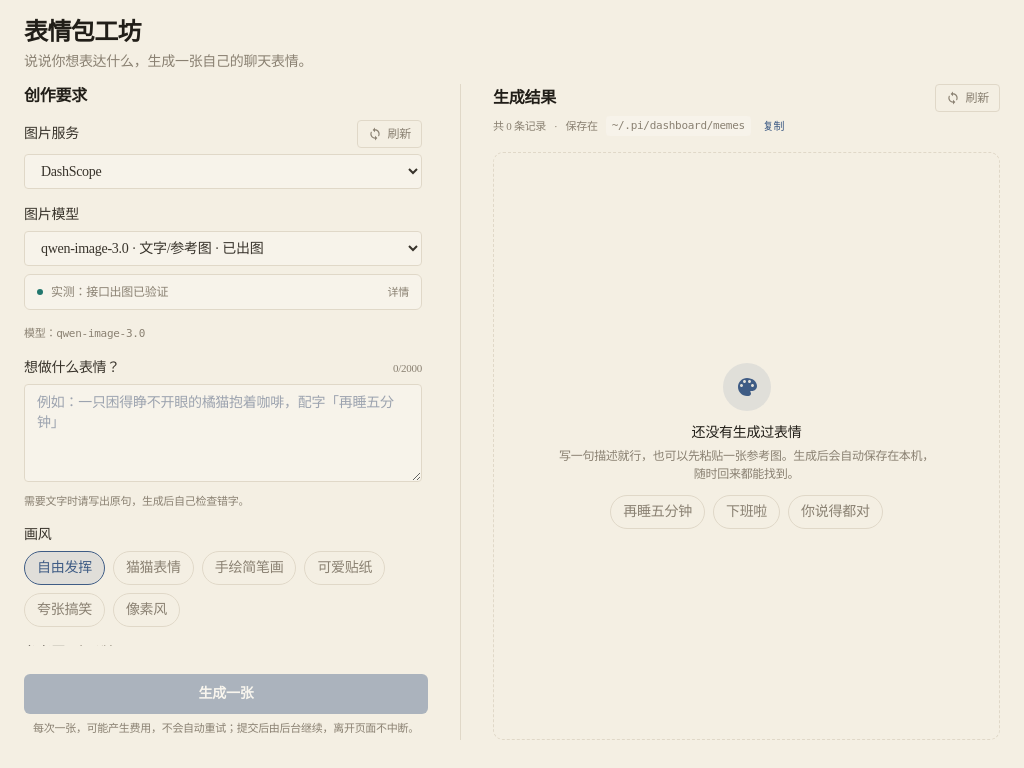
Test: MemeStudioPage › switches provider without submitting a model from the old provider
This screenshot has width=1024, height=768.
Expected: the dropdown labelled "图片服务" shows "DashScope", top-left (24, 154), bottom-right (422, 189)
Select "qwen-image-3.0-pro · 文字/参考图 · 已出图" in the dropdown labelled "图片模型" at (223, 248), box top-left (24, 231), bottom-right (422, 266)
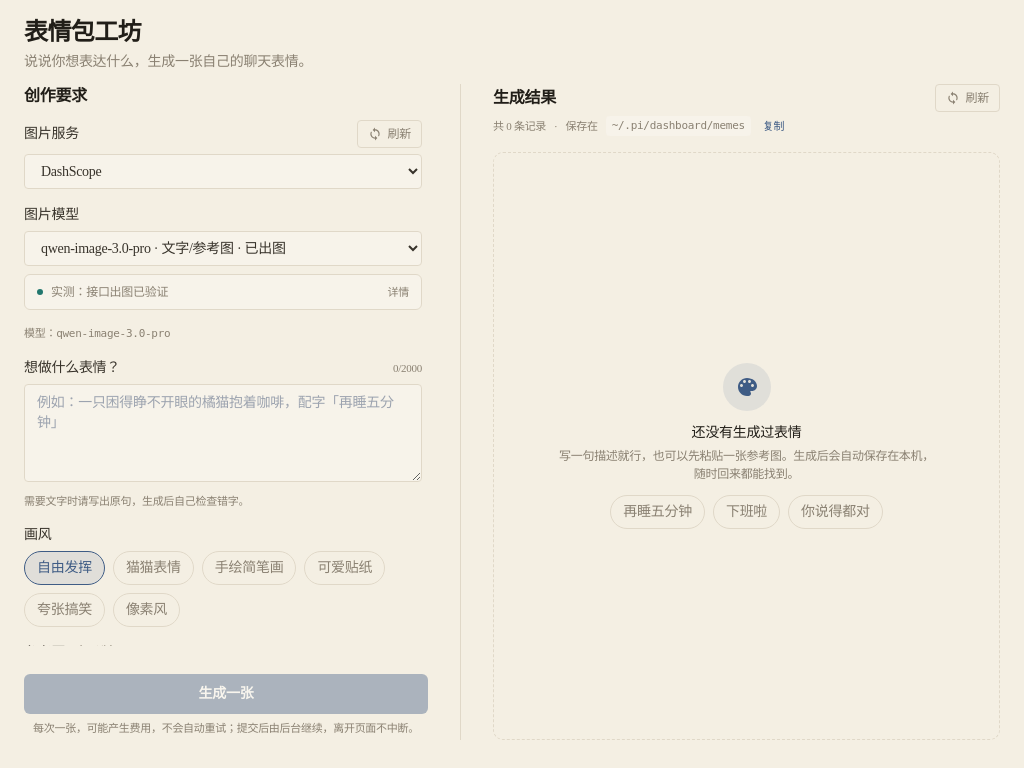
Select "Azure" in the dropdown labelled "图片服务" at (223, 172), box top-left (24, 154), bottom-right (422, 189)
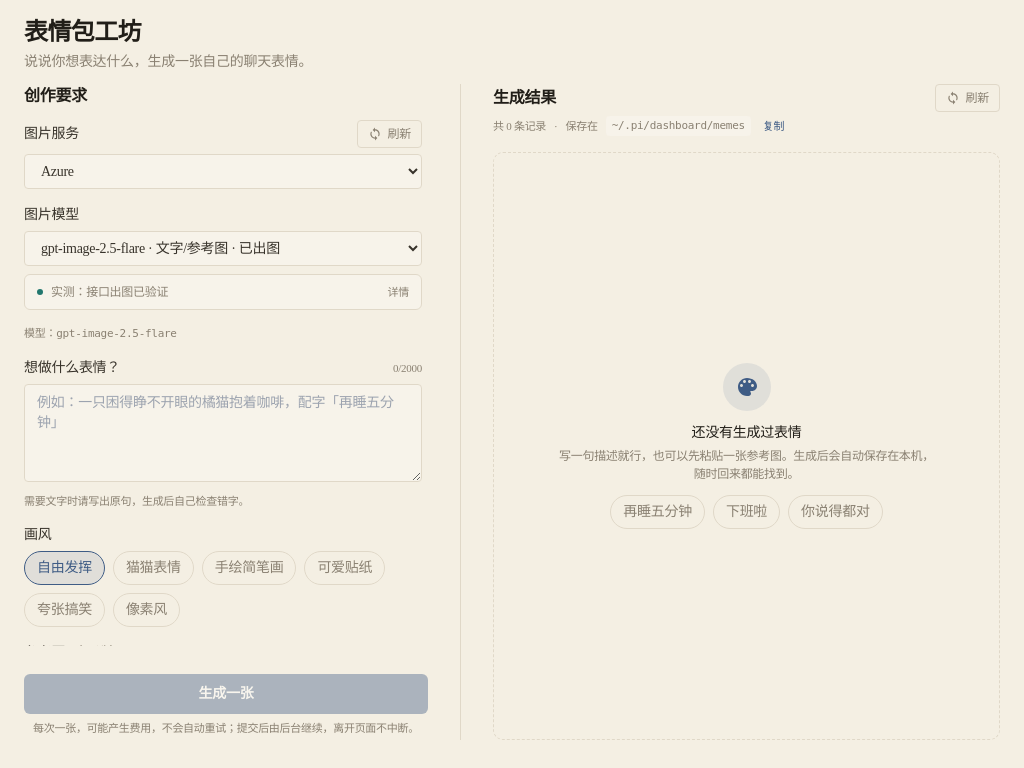
Type "困困的猫" into the text box labelled "想做什么表情？" at (223, 433), box top-left (24, 384), bottom-right (422, 482)
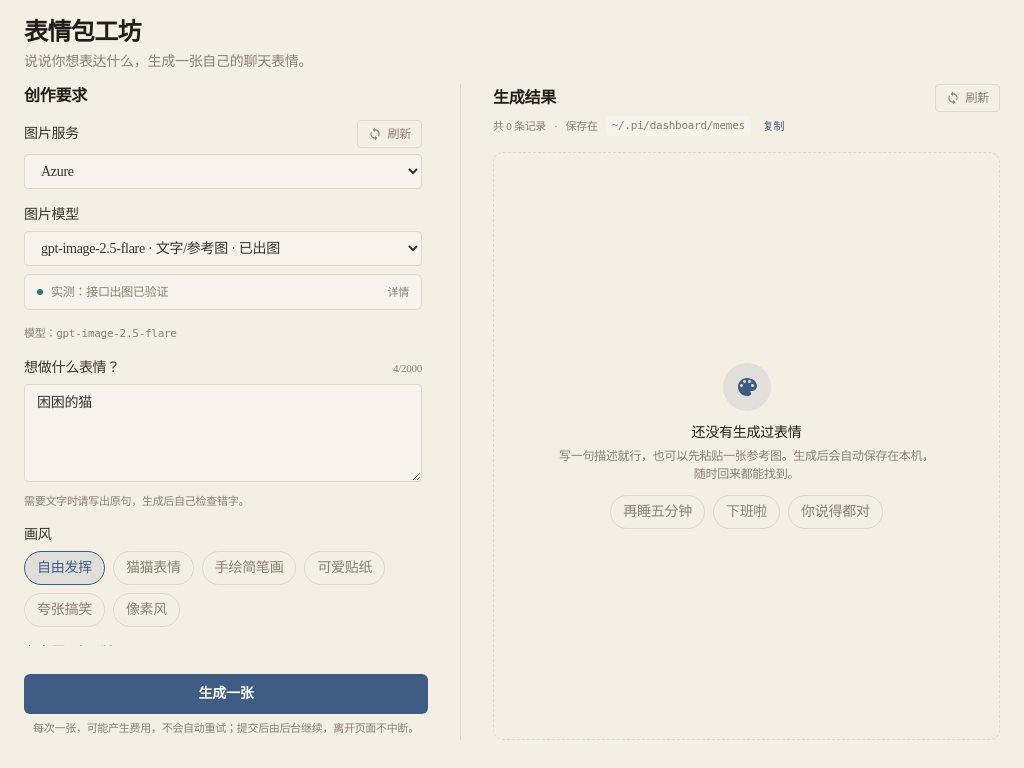
Click the button "生成一张" at (226, 694), box top-left (24, 674), bottom-right (428, 714)
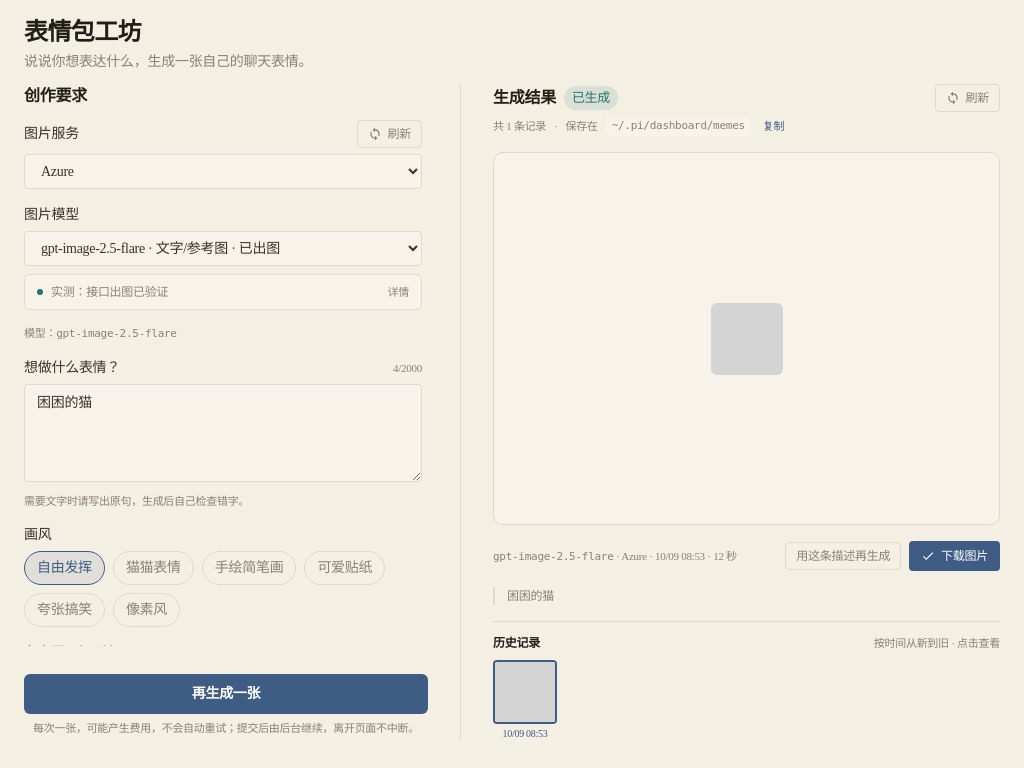
Expected: the link "下载图片" is shown, top-left (909, 541), bottom-right (1000, 571)
